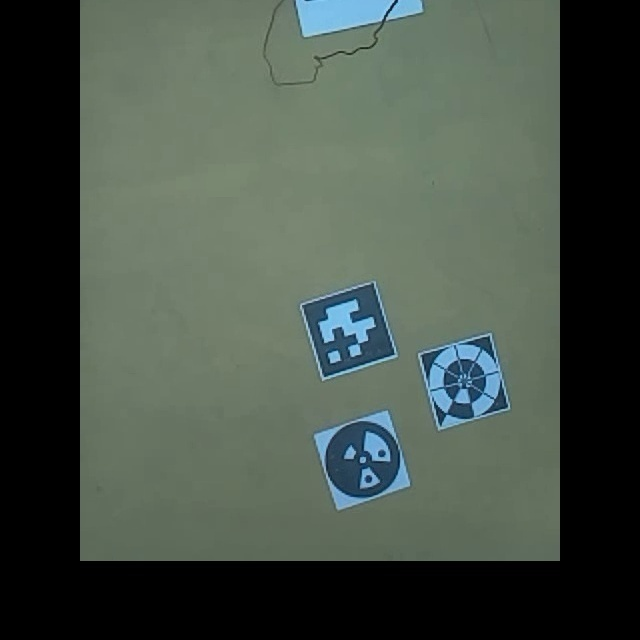landing-zone: (417, 329, 511, 433)
